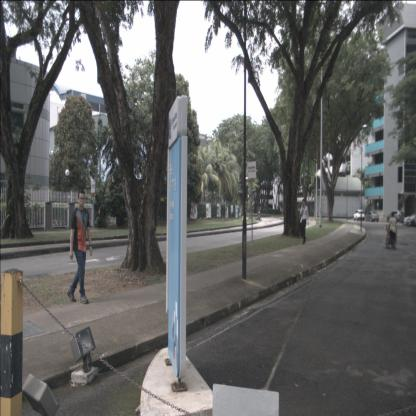human-pedestrian-adult: (66, 189, 92, 304), (300, 199, 308, 245), (387, 212, 396, 249)
vehicle-car: (387, 210, 405, 224), (364, 210, 379, 222), (353, 209, 365, 221), (404, 214, 416, 226), (407, 214, 415, 228)
